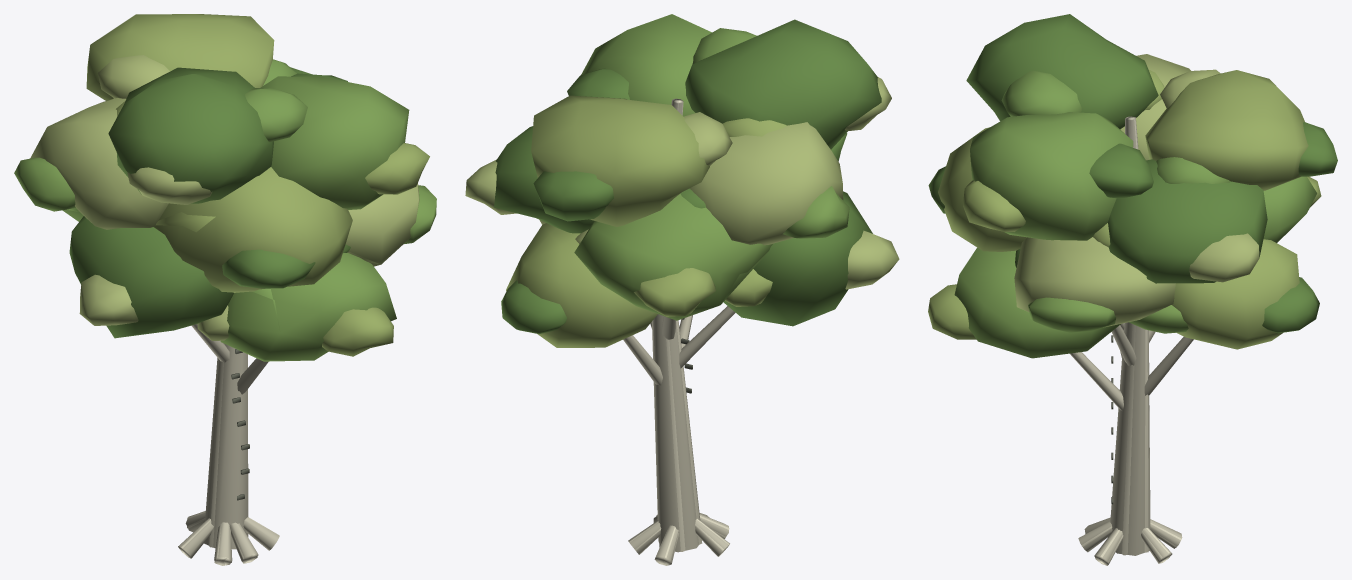
File: birch.glb
3 views of the same model, side by side, from view 1: azimuth 30°, elevation 25°; view 2: azimuth 150°, elevation 25°; view 3: azimuth 270°, elevation 25° (orthographic). The views are drawn at different scales.
Visible parts, largest first — view 1: near, far; view 2: near, far; view 3: near, far.
Part boxes in pixels (bbox=[...]): near: bbox=[14, 14, 436, 565]; far: bbox=[67, 208, 380, 565]; near: bbox=[465, 14, 899, 565]; far: bbox=[629, 99, 768, 565]; near: bbox=[928, 14, 1337, 565]; far: bbox=[1081, 116, 1181, 565].
Size of the model in its own units: 7.49 by 10.33 by 7.81.
